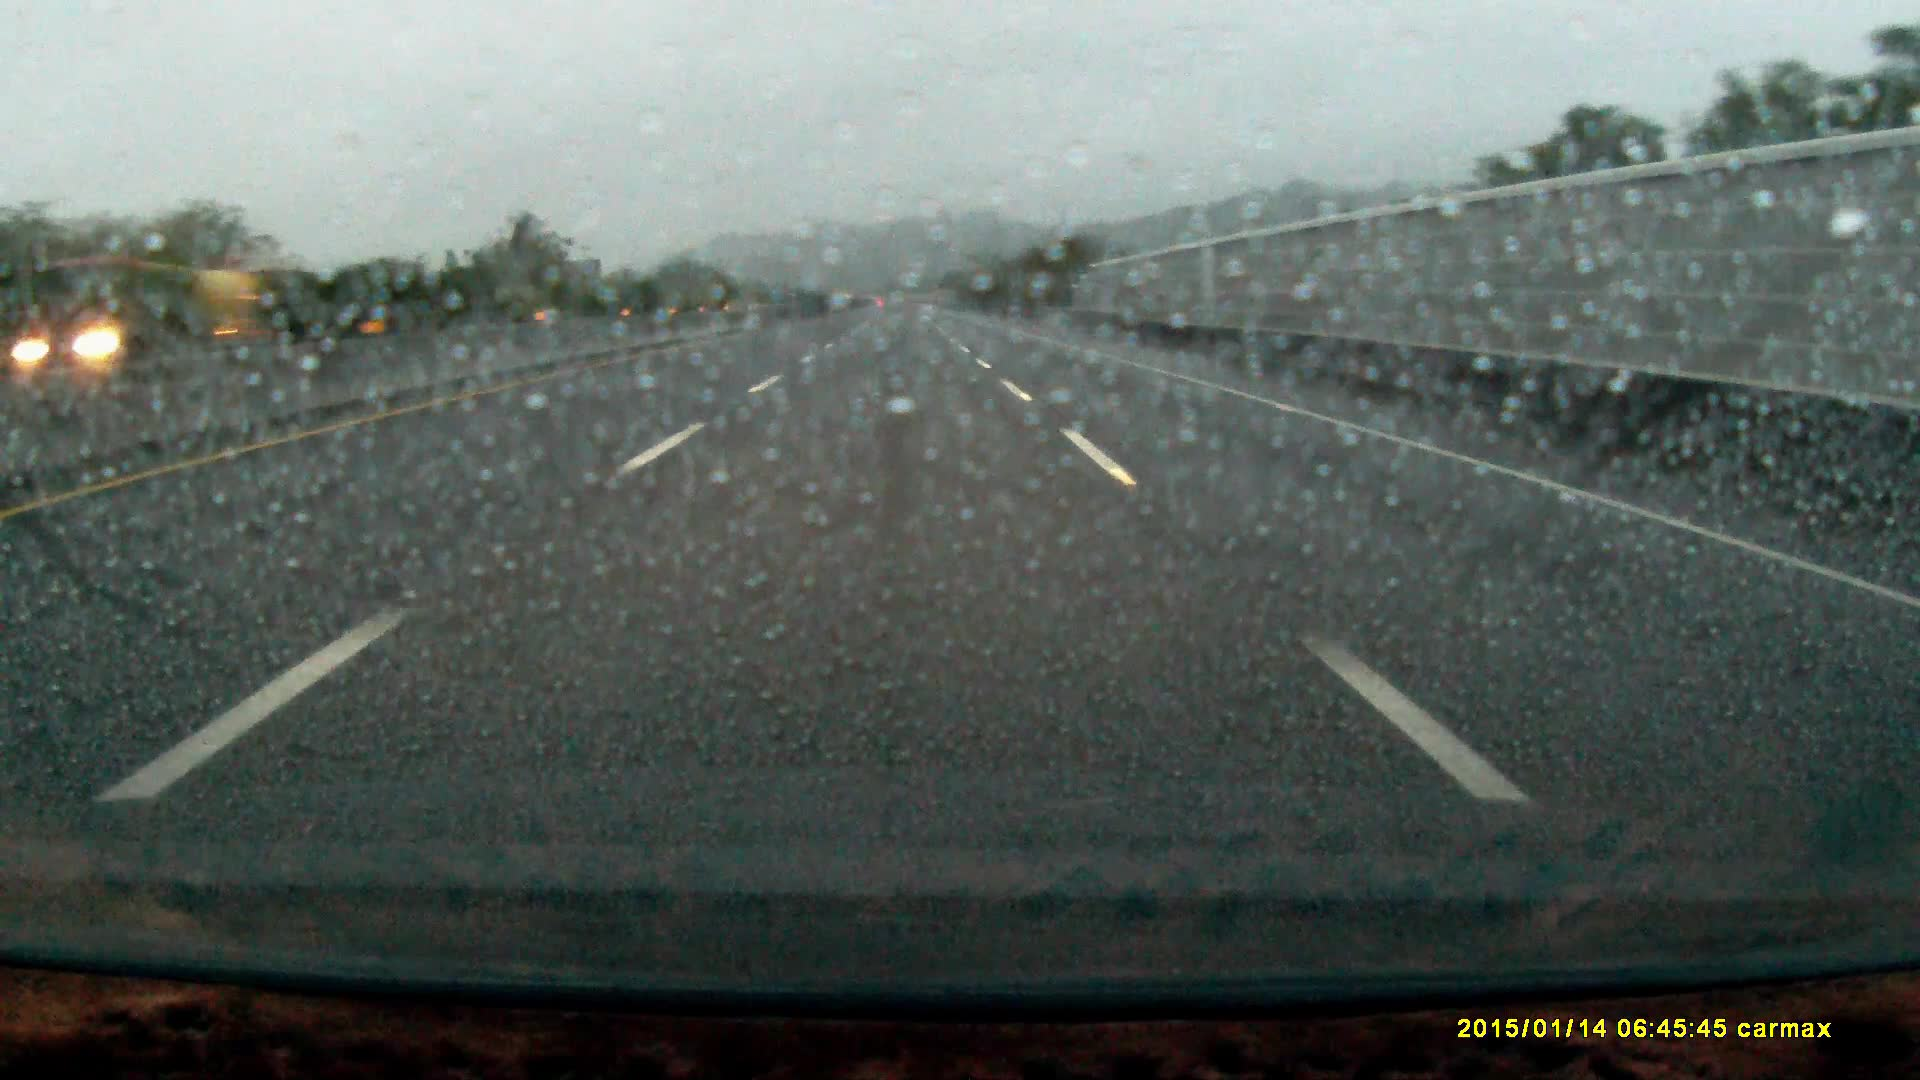vehicle: (1, 251, 327, 382)
